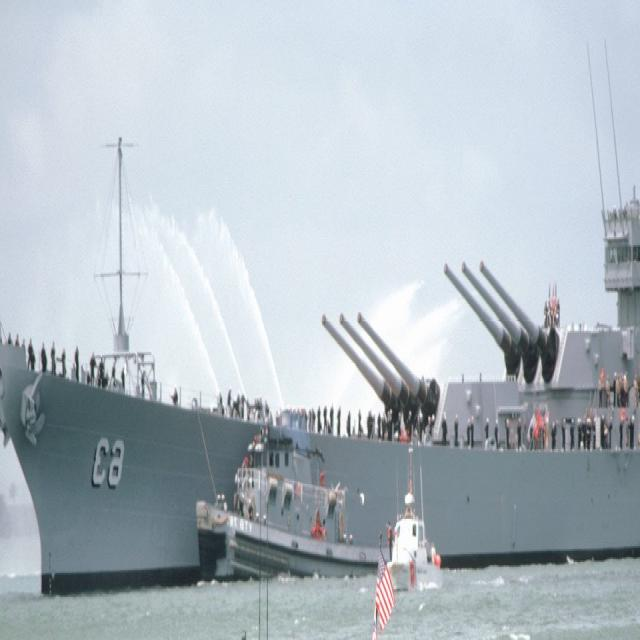houseboat: (372, 436, 458, 616)
navalvessels: (3, 108, 640, 620), (176, 413, 379, 569)
